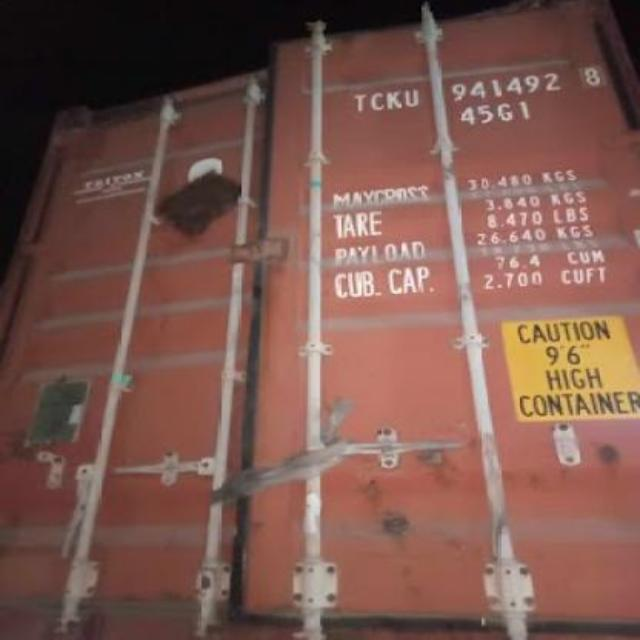1: (486, 70, 504, 100)
2: (540, 66, 562, 94)
4: (504, 67, 524, 97), (466, 74, 486, 100)
8: (578, 61, 606, 87)
9: (522, 66, 540, 94), (451, 76, 464, 104)
C: (368, 87, 384, 113)
K: (384, 87, 402, 113)
T: (350, 88, 368, 115)
U: (402, 84, 420, 114)
